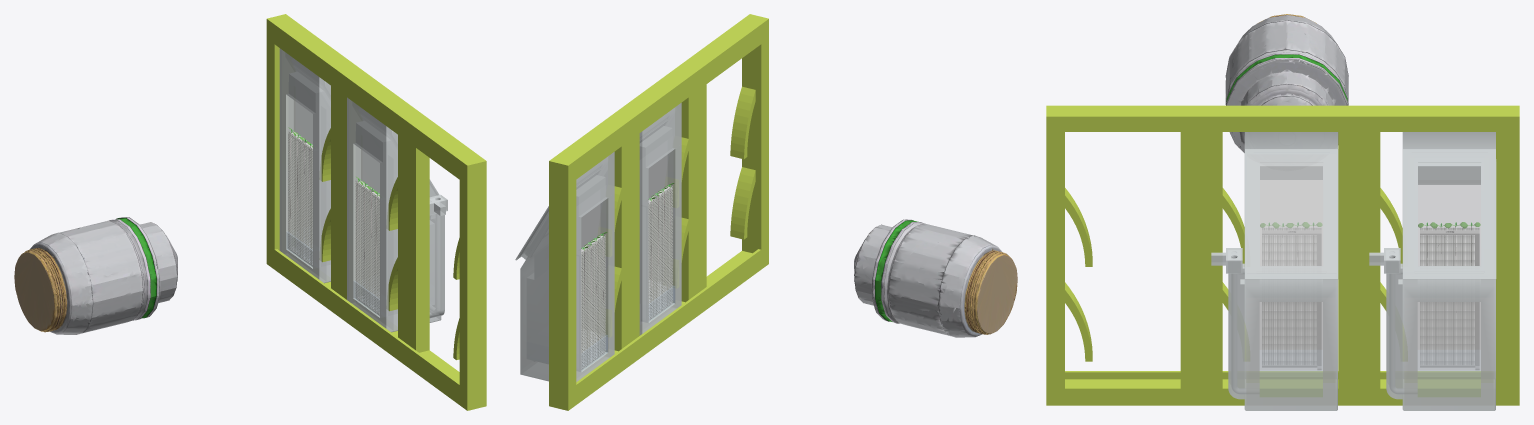
File: stage_vertical.glb
The picture shows the model from 3 angles, left to right: view 1: azimuth 30°, elevation 25°; view 2: azimuth 150°, elevation 25°; view 3: azimuth 270°, elevation 25°; orthographic projection. The views are drawn at different scales.
Parts seen in each view (by area): view 1: confocal_holder, objective_white, 3D024mp.001, 3D024mp, SEFAR.001, SEFAR, coverslip_2460, coverslip_2460.001, 2ml liquid, 2ml liquid.001; view 2: confocal_holder, objective_white, 3D024mp, 3D024mp.001, SEFAR.001, SEFAR, coverslip_2460.001, coverslip_2460, 2ml liquid, 3D024_st1_lid v2, 2ml liquid.001; view 3: confocal_holder, 3D024mp, 3D024mp.001, coverslip_2432_lid.001, objective_white, coverslip_2432, coverslip_2432.001, coverslip_2460, coverslip_2460.001, 3D024_st1_lid v2.001, 3D024_st1_lid v2, SEFAR (+7 smaller).
Part boxes in pixels (x1,y1,x2,y2): confocal_holder: (266, 14, 486, 410); objective_white: (14, 217, 177, 334); 3D024mp.001: (347, 97, 444, 332); 3D024mp: (279, 48, 330, 283); SEFAR.001: (355, 180, 379, 315); SEFAR: (288, 131, 312, 266); coverslip_2460: (293, 100, 312, 255); coverslip_2460.001: (361, 149, 379, 301); 2ml liquid: (286, 231, 312, 267); 2ml liquid.001: (353, 281, 379, 316); confocal_holder: (549, 14, 768, 410); objective_white: (854, 219, 1017, 337); 3D024mp: (520, 152, 614, 381); 3D024mp.001: (639, 103, 681, 335); SEFAR.001: (648, 186, 672, 320); SEFAR: (581, 235, 605, 369); coverslip_2460.001: (648, 155, 667, 313); coverslip_2460: (581, 204, 600, 355); 2ml liquid: (581, 335, 607, 371); 3D024_st1_lid v2: (515, 206, 548, 260); 2ml liquid.001: (648, 286, 674, 321); confocal_holder: (1046, 105, 1519, 405); 3D024mp: (1386, 132, 1495, 410); 3D024mp.001: (1228, 132, 1337, 410); coverslip_2432_lid.001: (1247, 154, 1336, 272); objective_white: (1225, 14, 1348, 152); coverslip_2432: (1404, 298, 1493, 405); coverslip_2432.001: (1246, 298, 1335, 405); coverslip_2460: (1418, 180, 1480, 349); coverslip_2460.001: (1260, 180, 1322, 349); 3D024_st1_lid v2.001: (1245, 149, 1338, 279); 3D024_st1_lid v2: (1403, 149, 1496, 279); SEFAR: (1420, 228, 1479, 364).
Size of the model in its own units: 144 by 85.5 by 127.
Materials: 18 (1 with a texture image).
